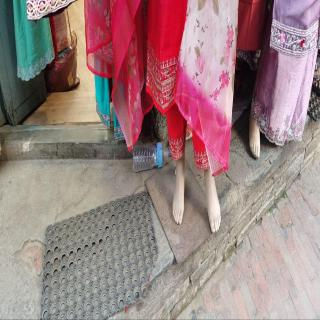Plastic-bottle: (133, 138, 173, 174)
